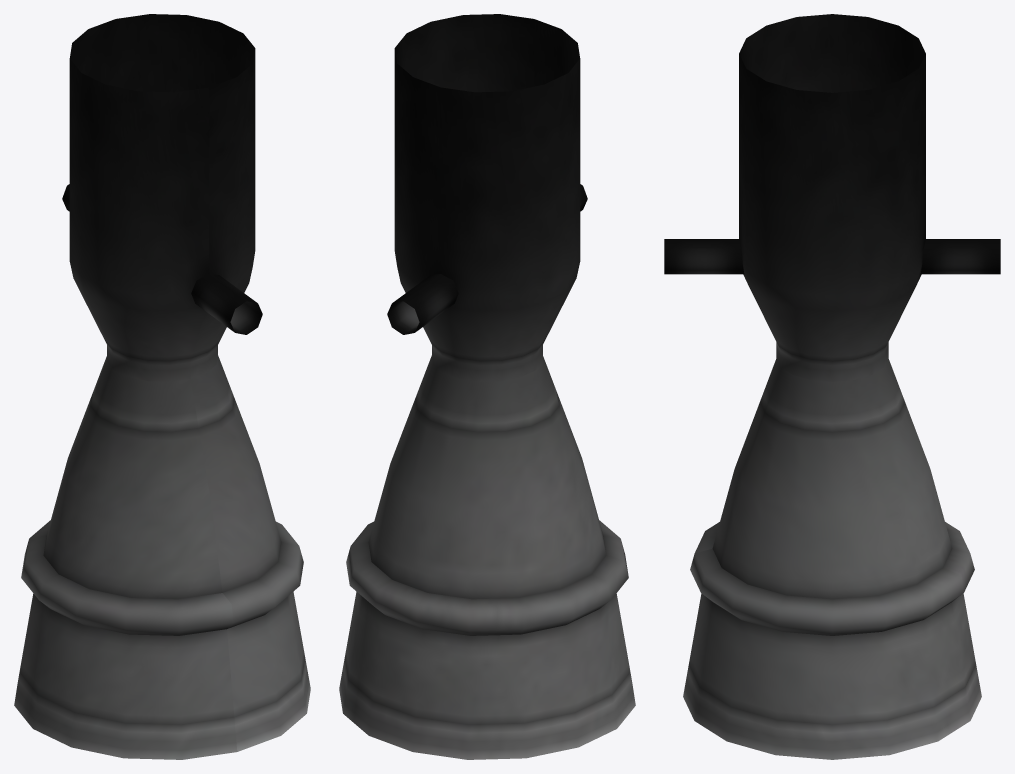
File: upper vernier nozzle.obj
3 views of the same model, side by side, from view 1: azimuth 30°, elevation 25°; view 2: azimuth 150°, elevation 25°; view 3: azimuth 270°, elevation 25° (orthographic).
Visible parts, largest first — view 1: 2; view 2: 2; view 3: 2.
Part boxes in pixels (x1,y1,x2,y2): 2: [14, 14, 310, 759]; 2: [339, 14, 635, 759]; 2: [664, 14, 1000, 759].
Bounding box in the file's own units: 0.2 × 0.475 × 0.225.
1 material, 1 textured.
